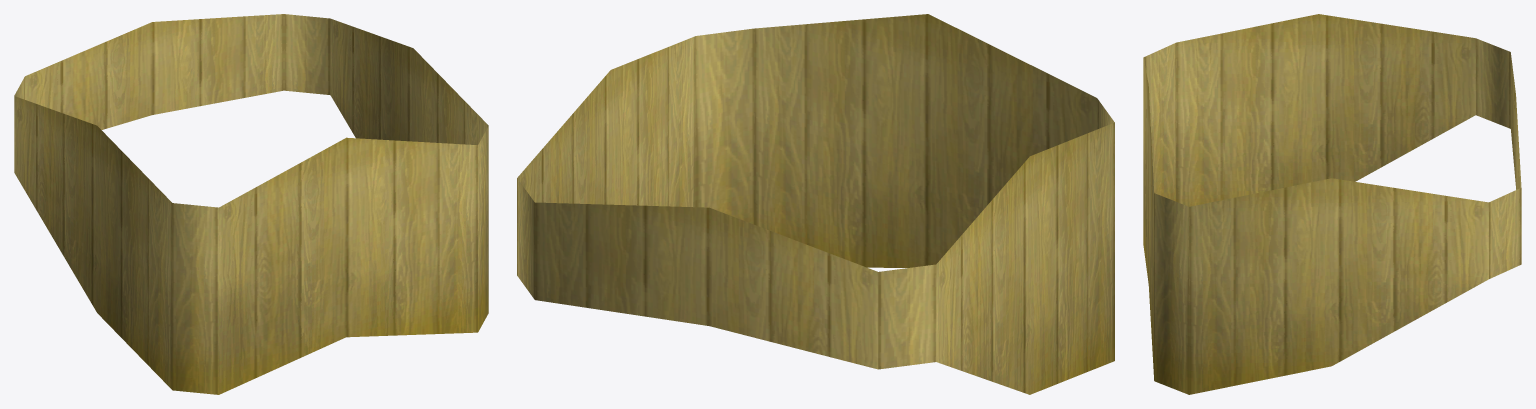
File: HTOWN01_GREENDRAGUPPERWALL01.fbx
The picture shows the model from 3 angles, left to right: view 1: azimuth 30°, elevation 25°; view 2: azimuth 150°, elevation 25°; view 3: azimuth 270°, elevation 25°; orthographic projection. The views are drawn at different scales.
Parts seen in each view (by area): view 1: HTOWN01_GREENDRAGUPPERWALL01; view 2: HTOWN01_GREENDRAGUPPERWALL01; view 3: HTOWN01_GREENDRAGUPPERWALL01.
Part boxes in pixels (x1,y1,x2,y2): HTOWN01_GREENDRAGUPPERWALL01: (14,14,488,394); HTOWN01_GREENDRAGUPPERWALL01: (517,14,1114,394); HTOWN01_GREENDRAGUPPERWALL01: (1143,14,1521,394).
Size of the model in its own units: 16932 by 11203 by 16644.
1 material, 1 textured.
